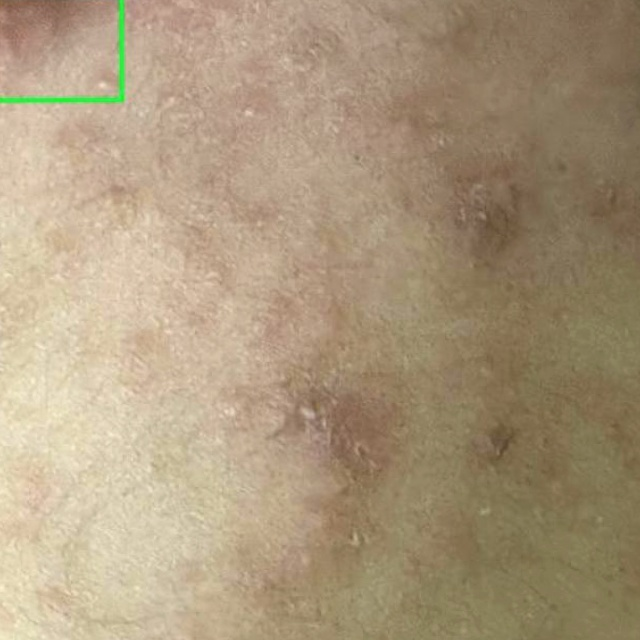Scabies: (0, 0, 122, 100)
